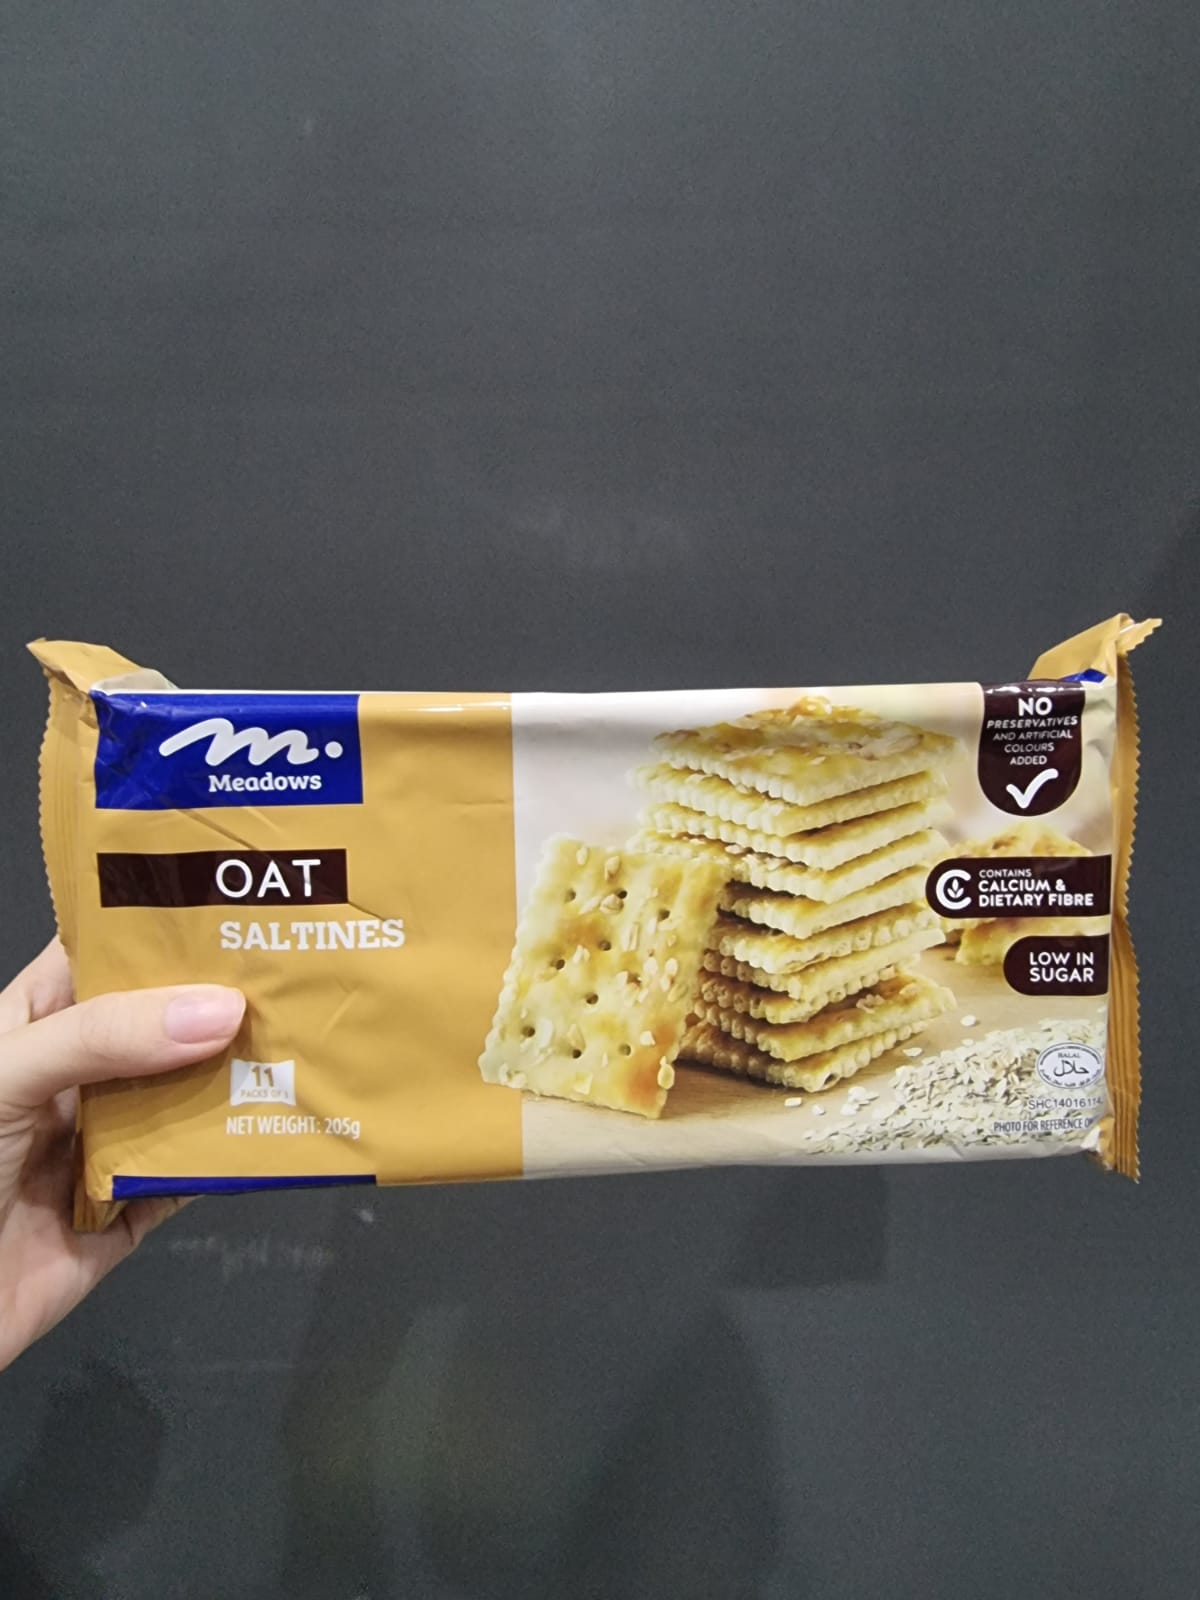Halal: (1041, 1044, 1098, 1083)
